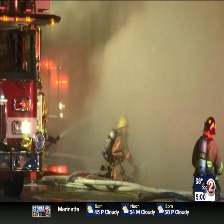smoke: (81, 3, 224, 183)
